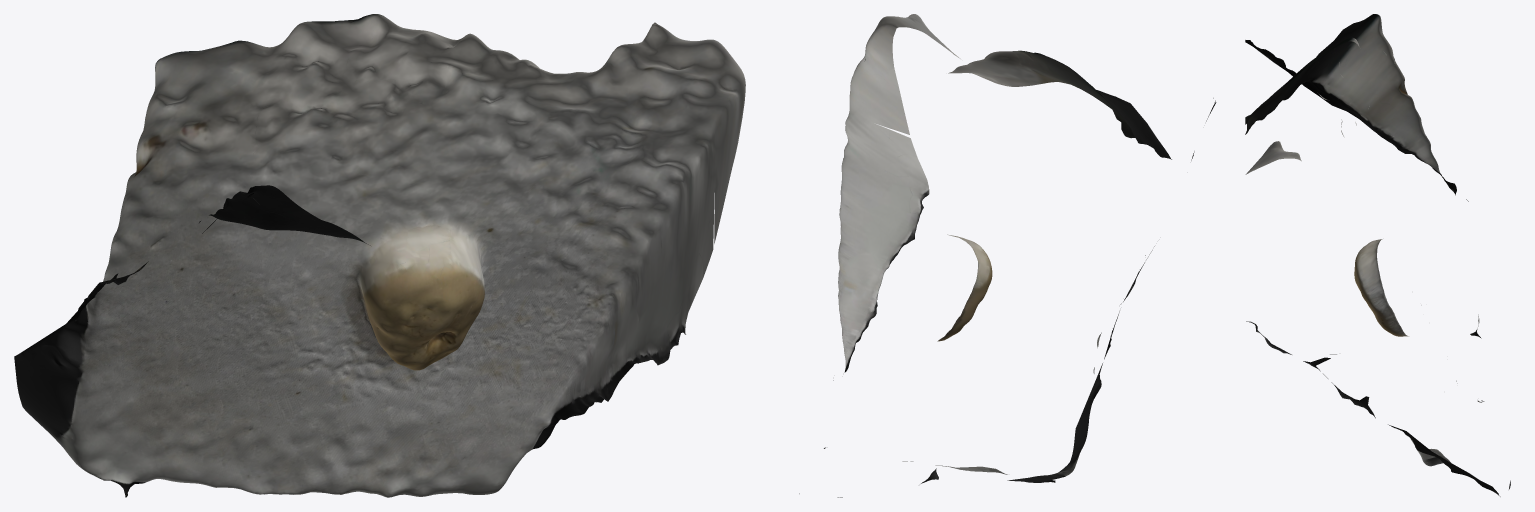
3 renders of one model, left to right at view 1: azimuth 30°, elevation 25°; view 2: azimuth 150°, elevation 25°; view 3: azimuth 270°, elevation 25°, orthographic. The views are drawn at different scales.
Size of the model in its own units: 0.4876 by 0.546 by 0.3624.
1 material, 1 textured.
